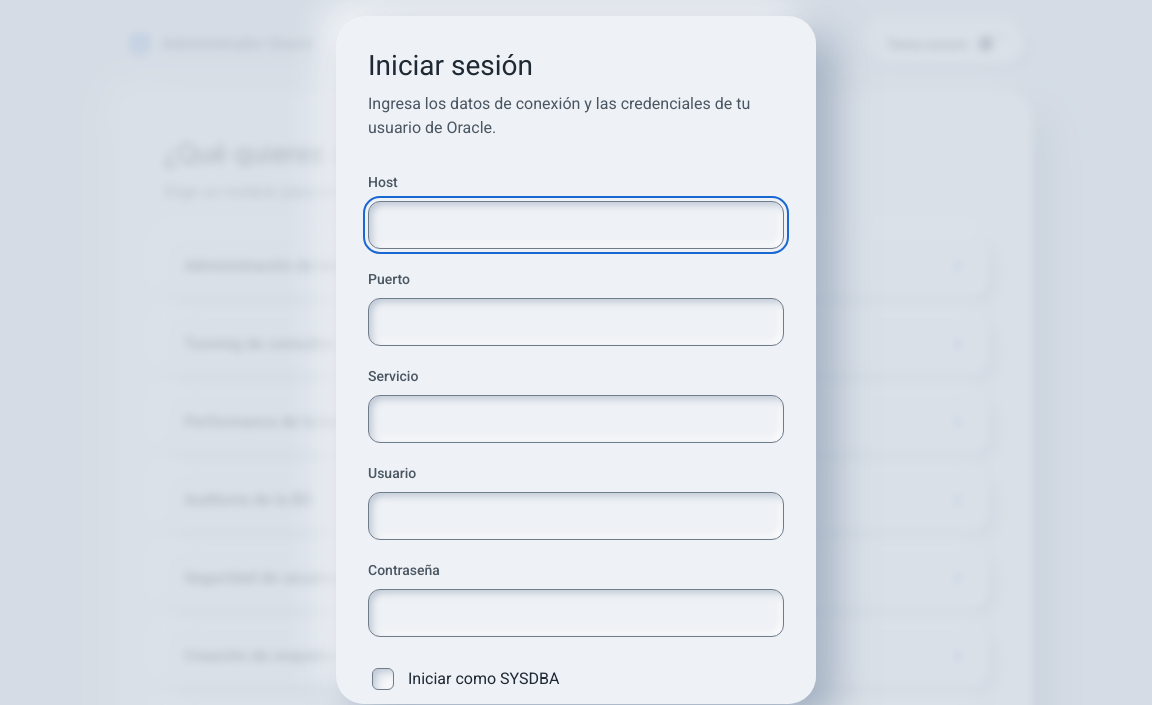
Test: al iniciar sesión desde el modal › cierra el modal y deja la aplicación accesible
The image size is (1152, 705).
Type "db.local" into the field labelled "Host" at (576, 225), box left=368, top=201, right=784, bottom=249
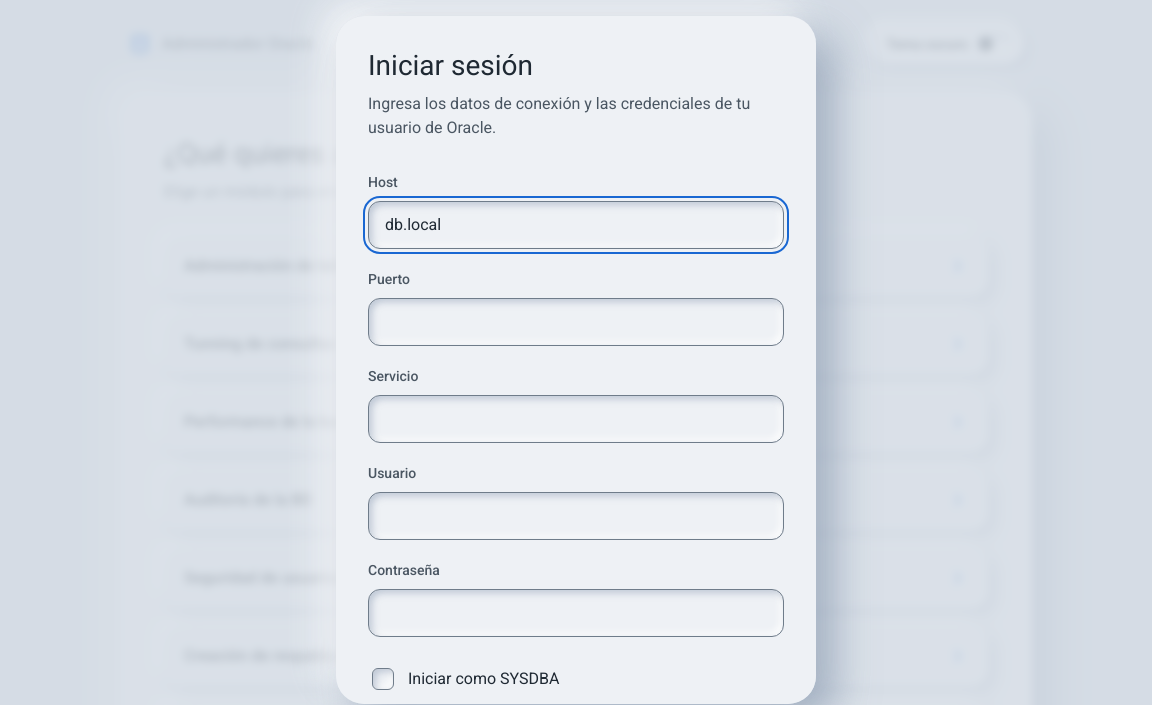
Type "1522" into the field labelled "Puerto" at (576, 322), box left=368, top=298, right=784, bottom=346
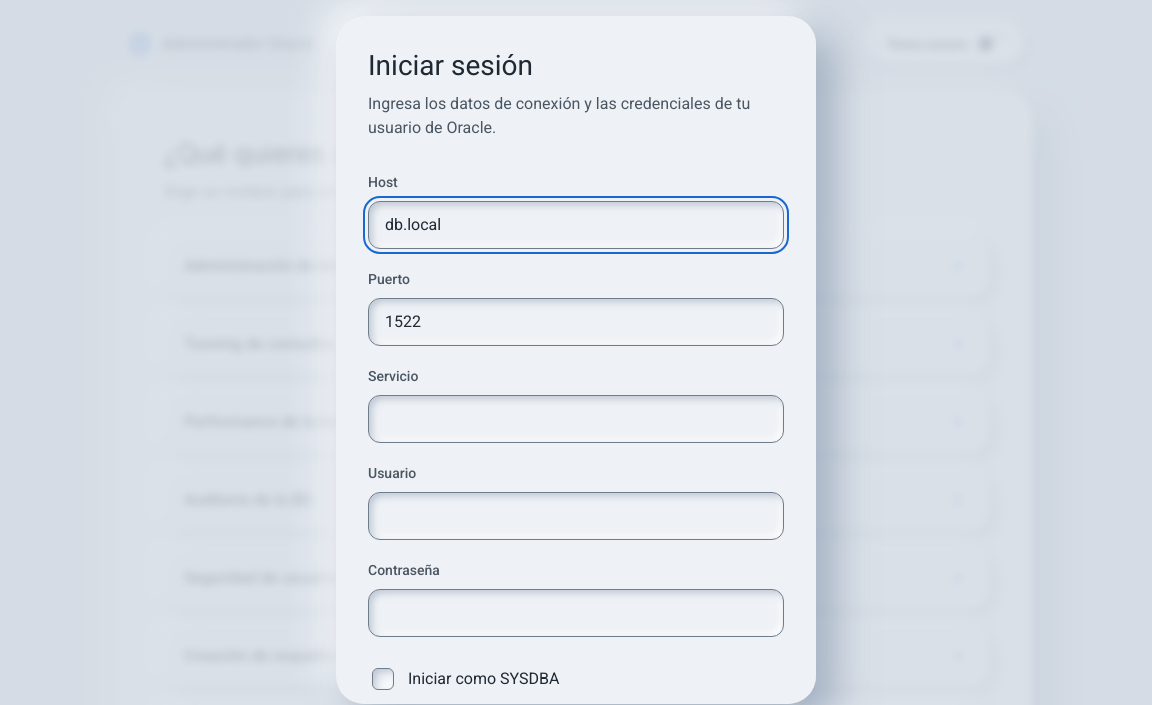
Type "XEPDB1" into the field labelled "Servicio" at (576, 419), box left=368, top=395, right=784, bottom=443
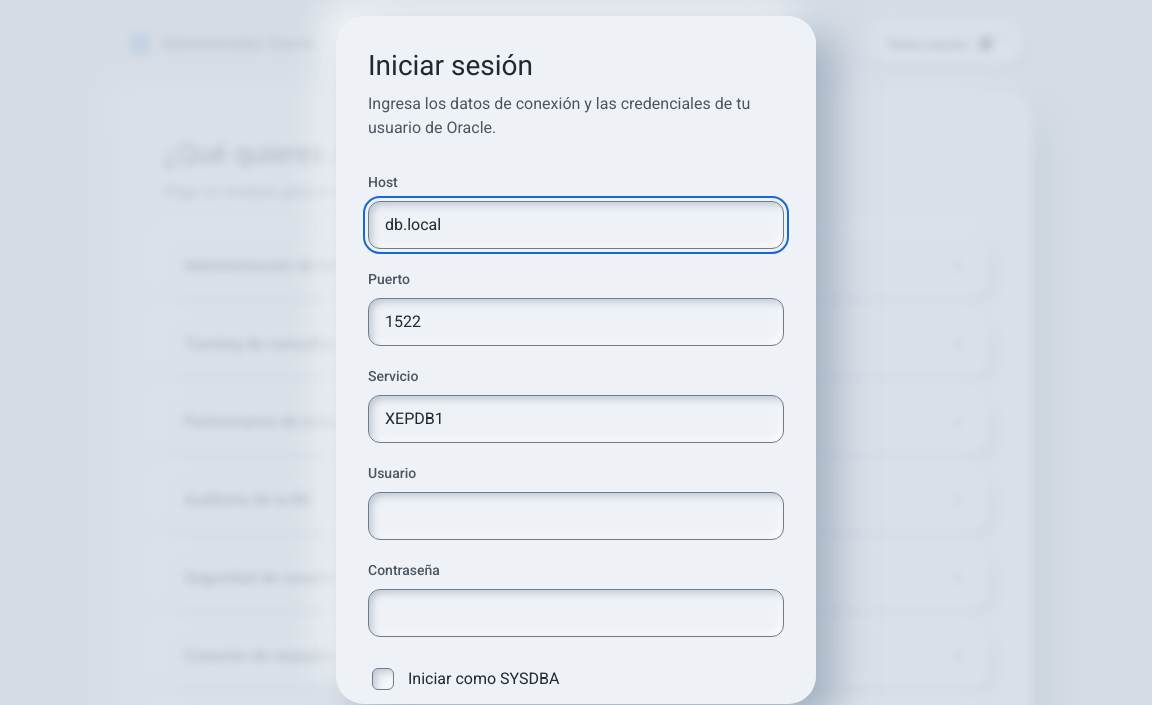
Type "HR" into the field labelled "Usuario" at (576, 516), box left=368, top=492, right=784, bottom=540
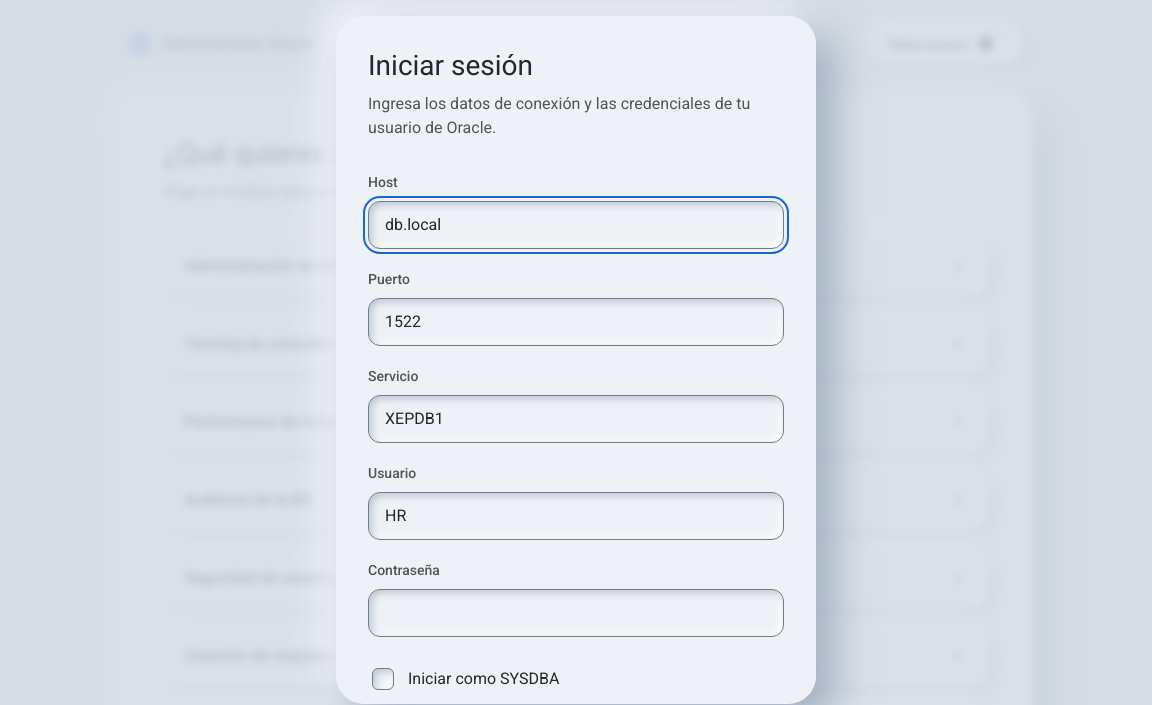
Type "s3creta!" into the password field labelled "Contraseña" at (576, 613), box left=368, top=589, right=784, bottom=637
(page scrolled)
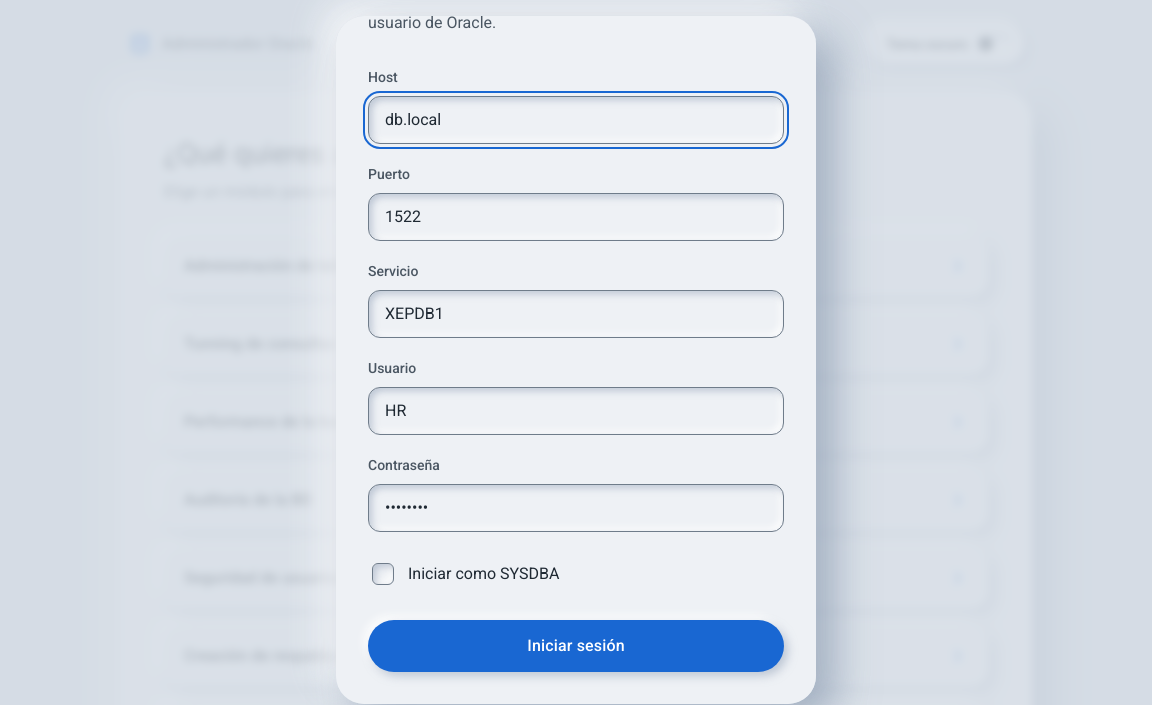
Submit the form, box left=368, top=67, right=784, bottom=672
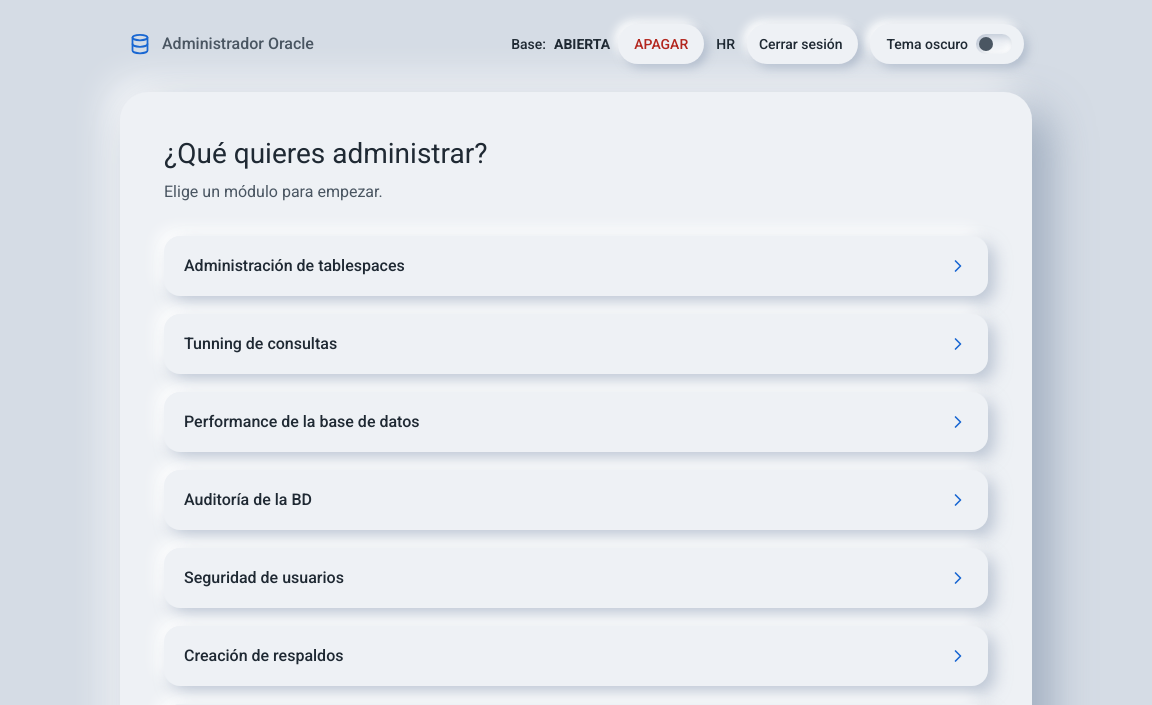
Expected: the button "Creación de respaldos" is shown, left=164, top=626, right=988, bottom=686
Expected: the dialog is gone
